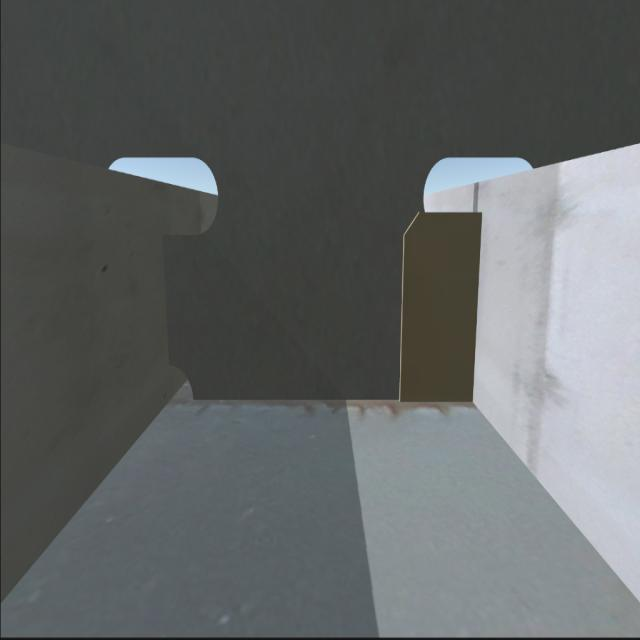fillet_hole: (164, 366, 198, 406)
fillet_yong_jeop_jang: (197, 395, 472, 408)
longi_yong_jeop_jang: (471, 211, 482, 410), (163, 239, 176, 368)
plate_CP03: (400, 202, 479, 402)
